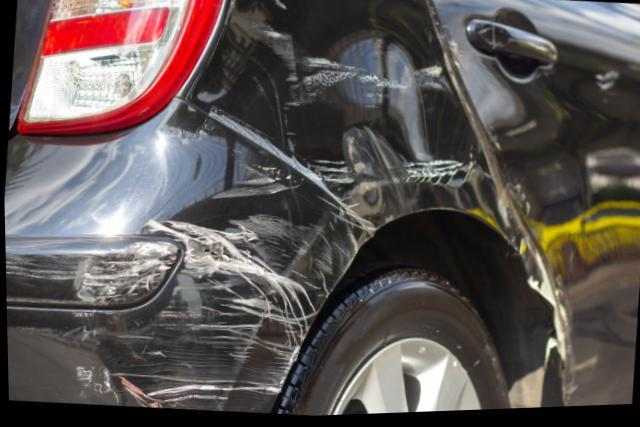scratch: (4, 166, 375, 415), (250, 0, 477, 216)
